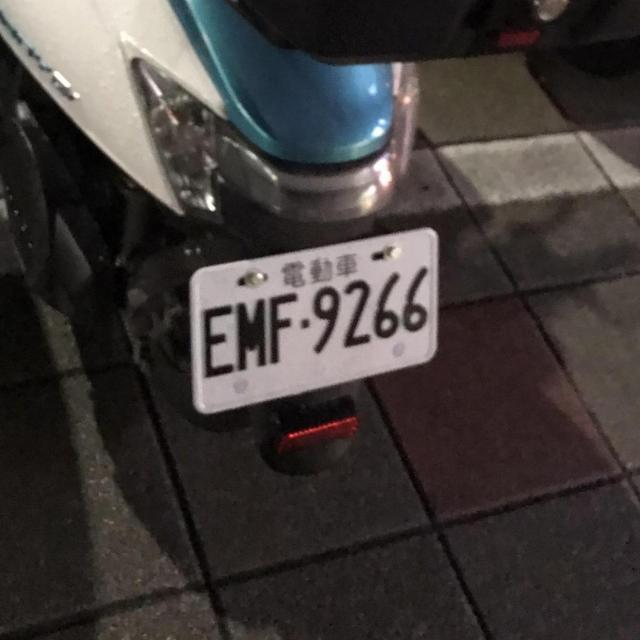W: (187, 225, 442, 416)
